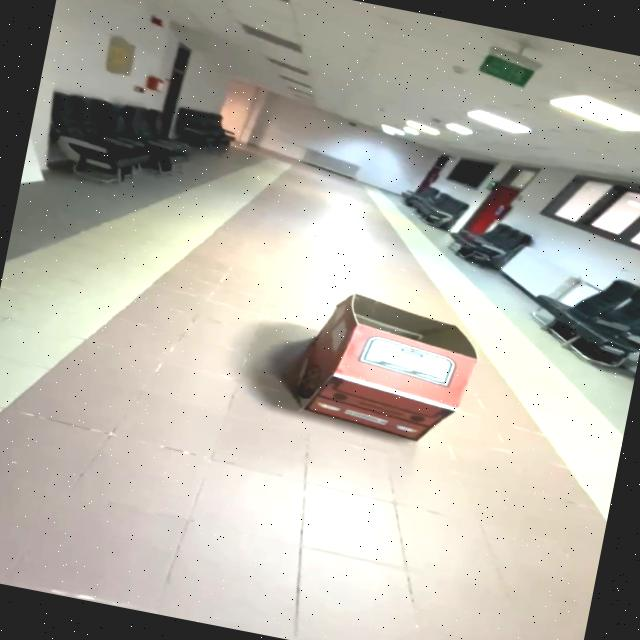red_car: (252, 272, 506, 465)
